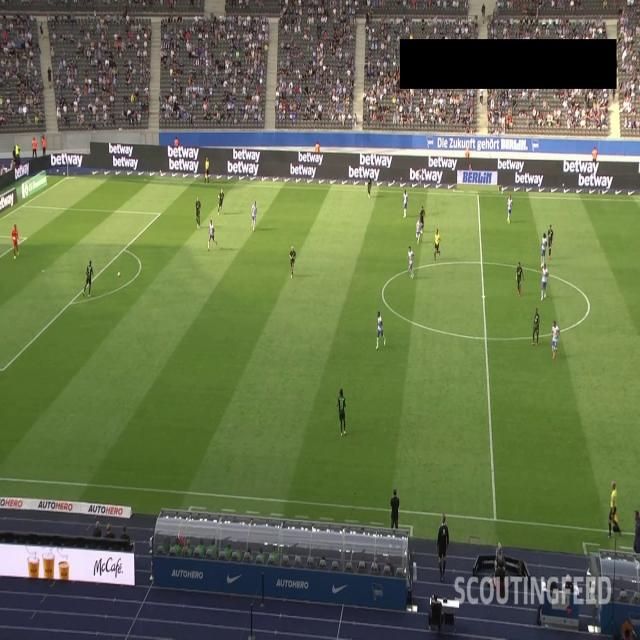ball: (115, 266, 124, 284)
player: (336, 388, 348, 438), (376, 311, 386, 352), (550, 320, 560, 360), (515, 260, 525, 298), (84, 260, 94, 298), (10, 223, 22, 254), (531, 308, 540, 348), (208, 220, 218, 252), (546, 223, 554, 261), (289, 244, 297, 281), (540, 263, 547, 302), (250, 199, 258, 233), (540, 232, 547, 267), (217, 189, 225, 217), (506, 193, 513, 224), (408, 242, 414, 277), (196, 196, 202, 230), (366, 173, 373, 200), (420, 207, 427, 231), (402, 189, 408, 214), (417, 218, 422, 242)
